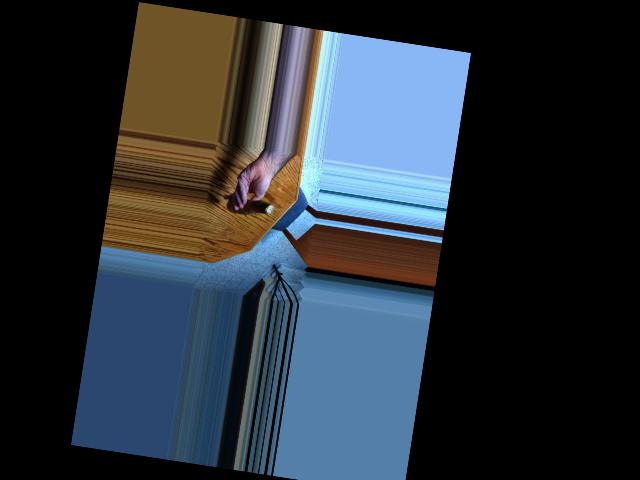sweet_potato: (229, 193, 271, 220)
